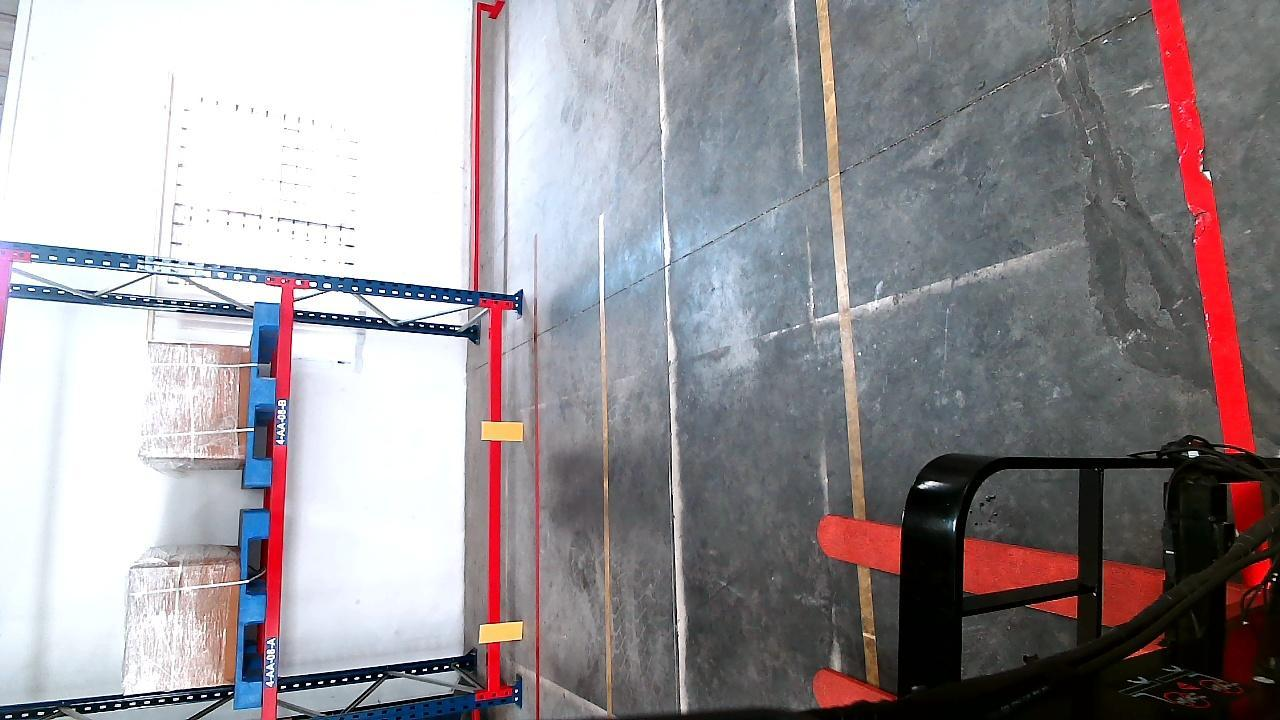red_line: (1145, 0, 1262, 454)
yellow_line: (814, 0, 870, 513), (595, 232, 619, 720)
